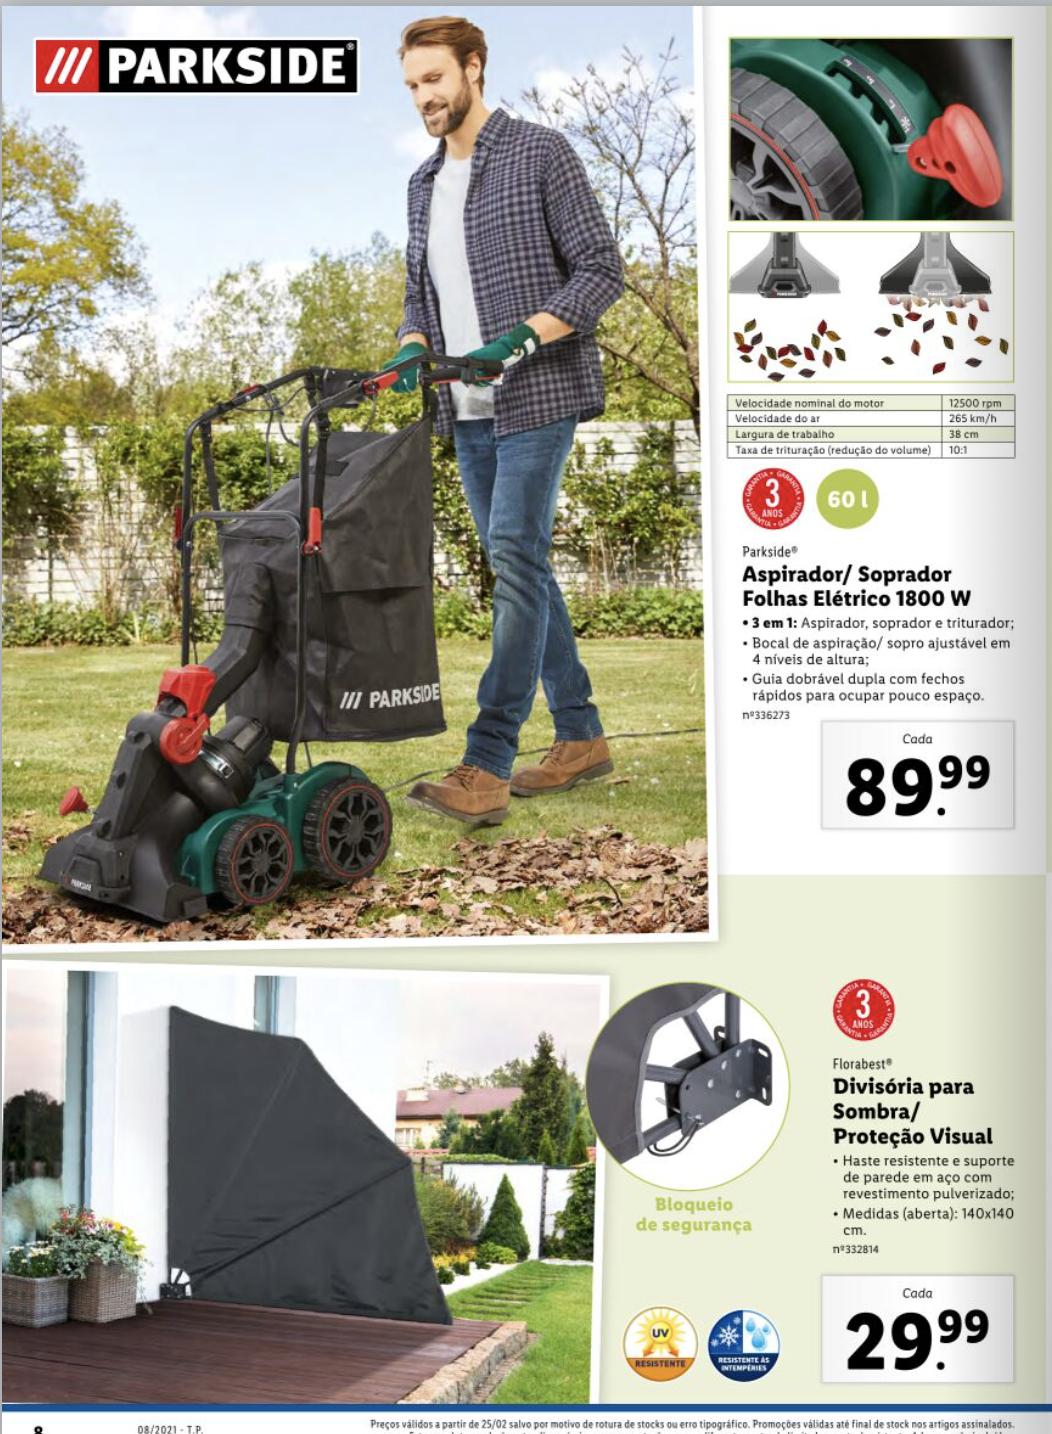name: (826, 1069, 1003, 1152), (731, 560, 976, 612)
price: (813, 1271, 1021, 1387), (817, 718, 1017, 835)
product: (35, 26, 1024, 951), (21, 950, 1040, 1410)
